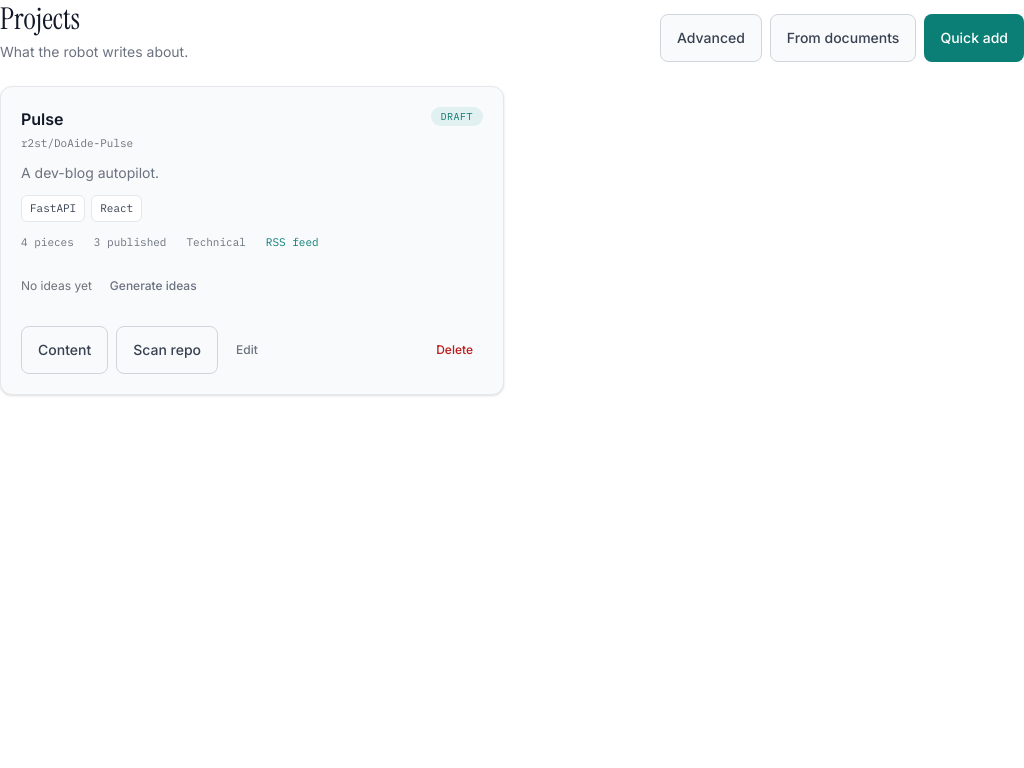
Test: the add/edit dialog › reads the nullable URL fields as empty strings rather than uncontrolled inputs
The width and height of the screenshot is (1024, 768).
Expected: the heading "Pulse" is shown, [21,108,64,128]
Click the button "Edit".
click(247, 350)  # box [226,326,268,374]
(page scrolled)
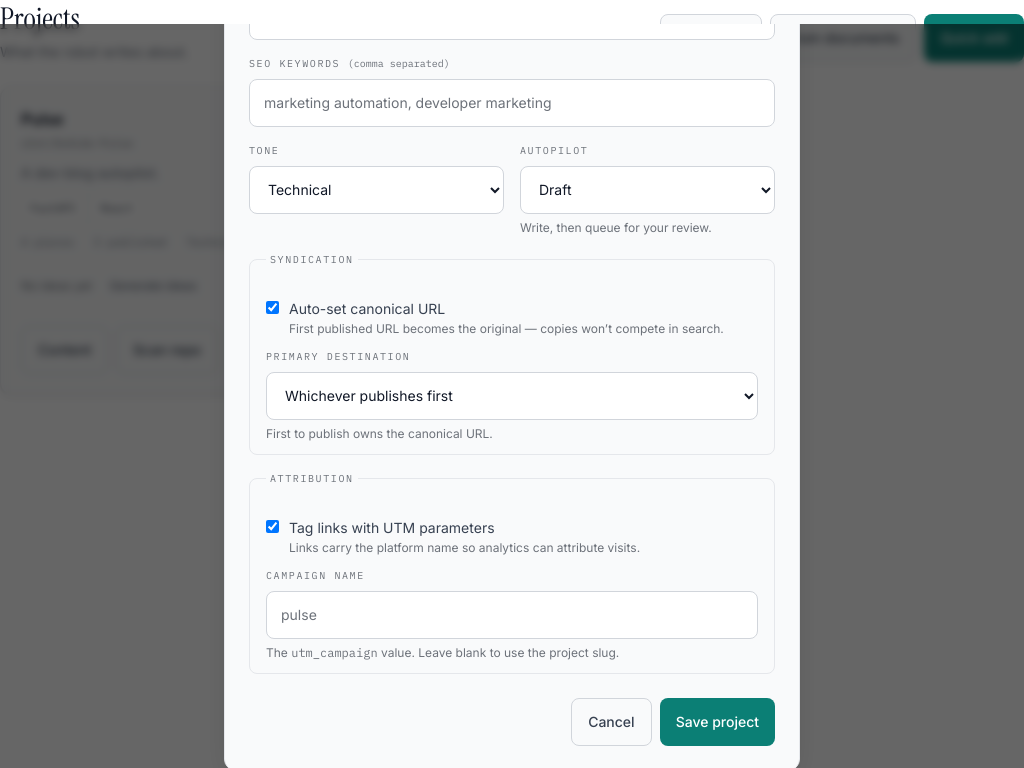
Result: the dropdown labelled "Primary destination" shows "Whichever publishes first" at [266,372,758,420]
